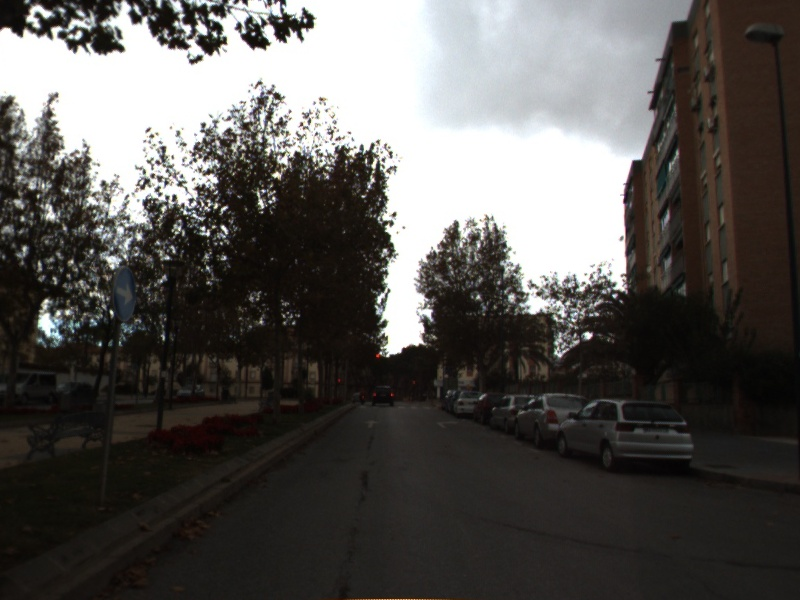RIGHT: (434, 418, 461, 430)
STRAIGHT: (362, 418, 381, 430)
